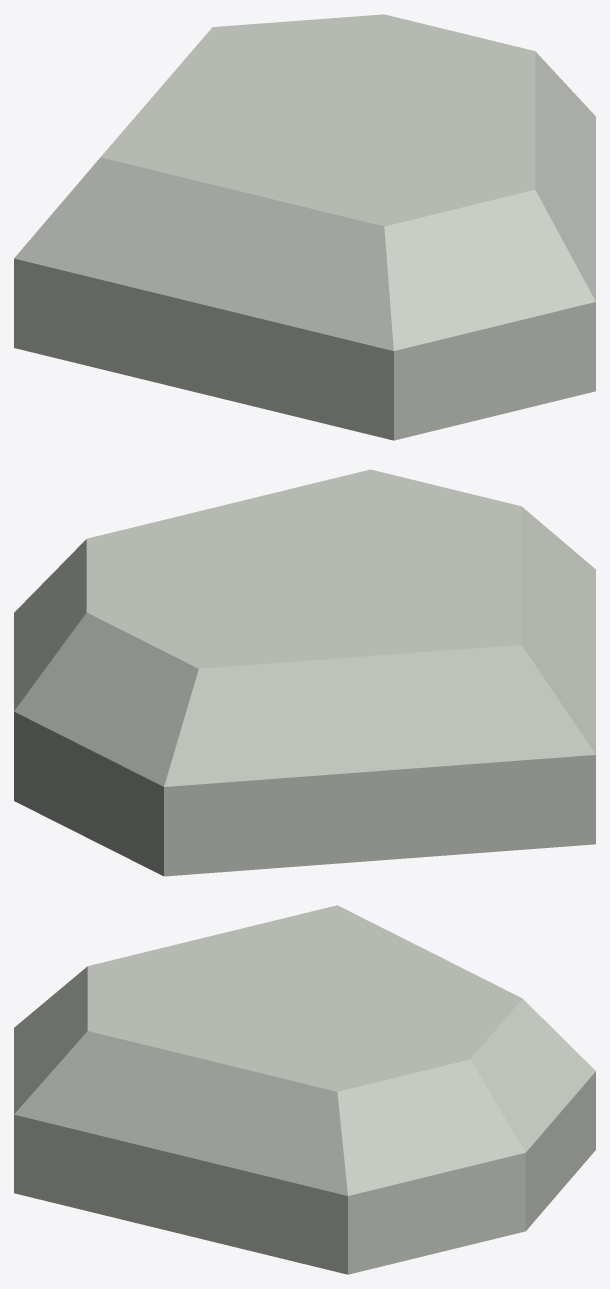
The model's file is rock-type4-04-green.glb.
3 renders of one model, top to bottom at view 1: azimuth 30°, elevation 25°; view 2: azimuth 150°, elevation 25°; view 3: azimuth 270°, elevation 25°, orthographic. The views are drawn at different scales.
Parts seen in each view (by area): view 1: Rock_Type4_04_mesh; view 2: Rock_Type4_04_mesh; view 3: Rock_Type4_04_mesh.
Part boxes in pixels (x1,y1,x2,y2): Rock_Type4_04_mesh: [14, 14, 595, 440]; Rock_Type4_04_mesh: [14, 469, 595, 876]; Rock_Type4_04_mesh: [14, 905, 595, 1274].
Size of the model in its own units: 1.18 by 0.3414 by 1.17.
Materials: 1 (1 with a texture image).
